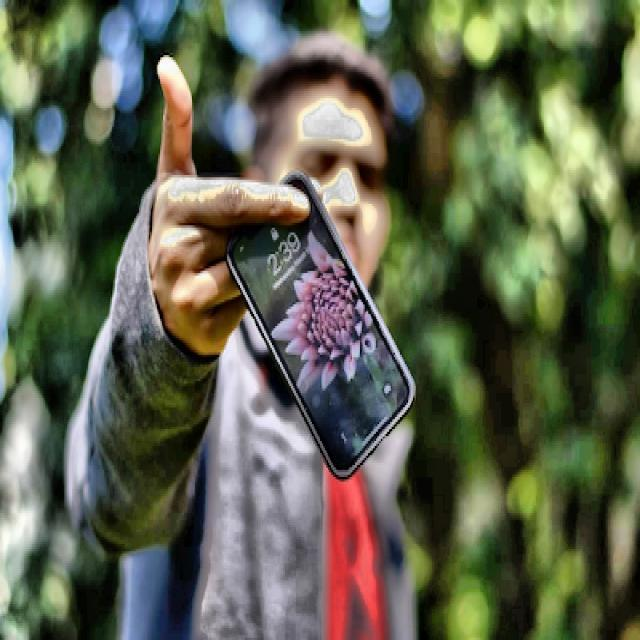Phone: (225, 170, 418, 486)
